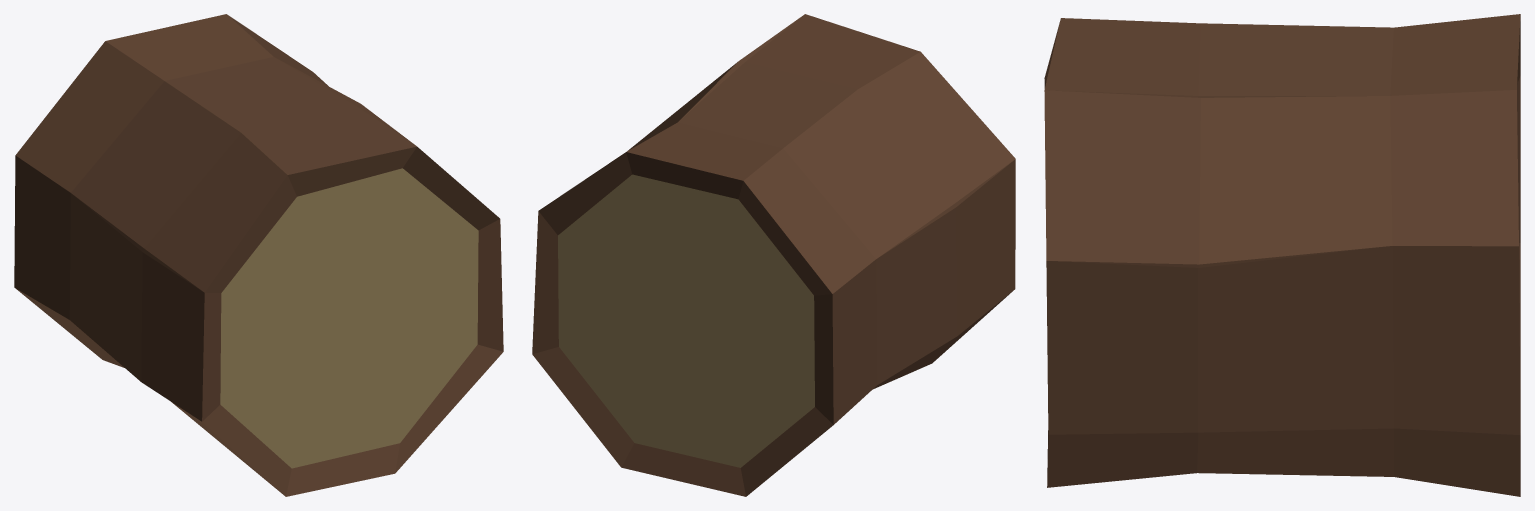
File: WoodenLog1.fbx
3 renders of one model, left to right at view 1: azimuth 30°, elevation 25°; view 2: azimuth 150°, elevation 25°; view 3: azimuth 270°, elevation 25°, orthographic. The views are drawn at different scales.
Visible parts, largest first — view 1: Wooden Log 2; view 2: Wooden Log 2; view 3: Wooden Log 2.
Boxes of the visible parts, left/top/right/bottom form: Wooden Log 2: left=14, top=14, right=503, bottom=496; Wooden Log 2: left=532, top=14, right=1015, bottom=496; Wooden Log 2: left=1044, top=14, right=1520, bottom=496.
Size of the model in its own units: 187 by 190 by 200.
